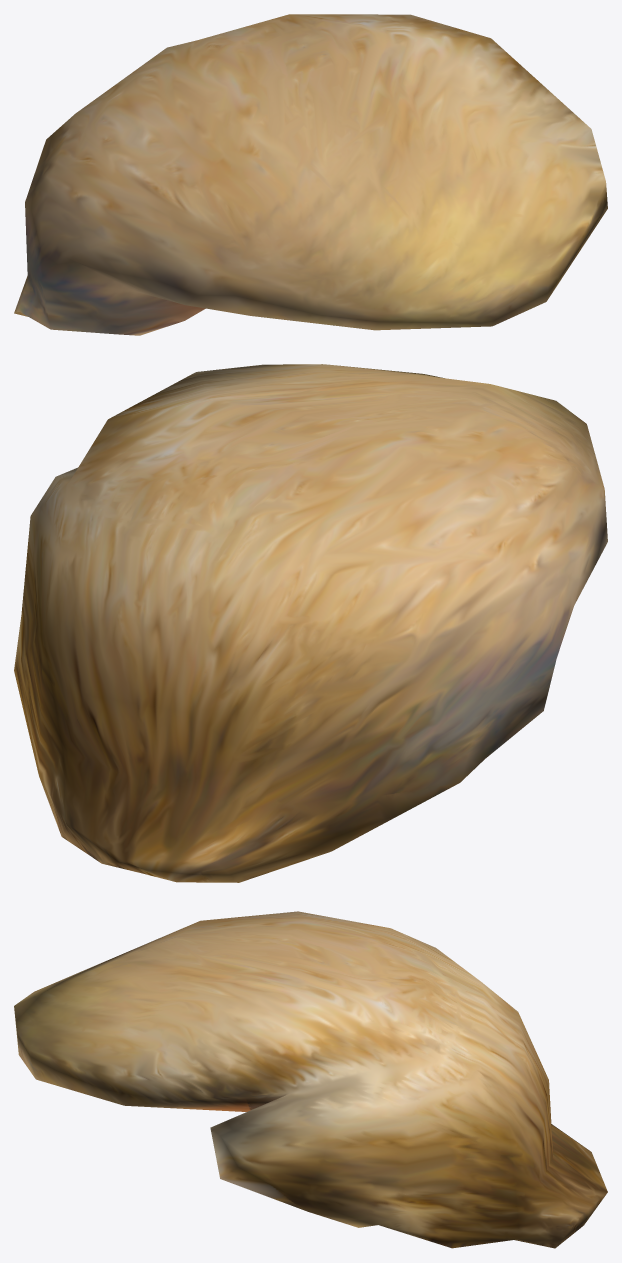
File: Hair.fbx
3 views of the same model, one above another, from view 1: azimuth 30°, elevation 25°; view 2: azimuth 150°, elevation 25°; view 3: azimuth 270°, elevation 25° (orthographic). The views are drawn at different scales.
Visible parts, largest first — view 1: Hair; view 2: Hair; view 3: Hair.
Part boxes in pixels (<box>): Hair: <box>14,14,607,335</box>; Hair: <box>14,364,607,882</box>; Hair: <box>14,911,607,1248</box>.
Size of the model in its own units: 31.12 by 19.57 by 40.46.
1 material, 1 textured.
